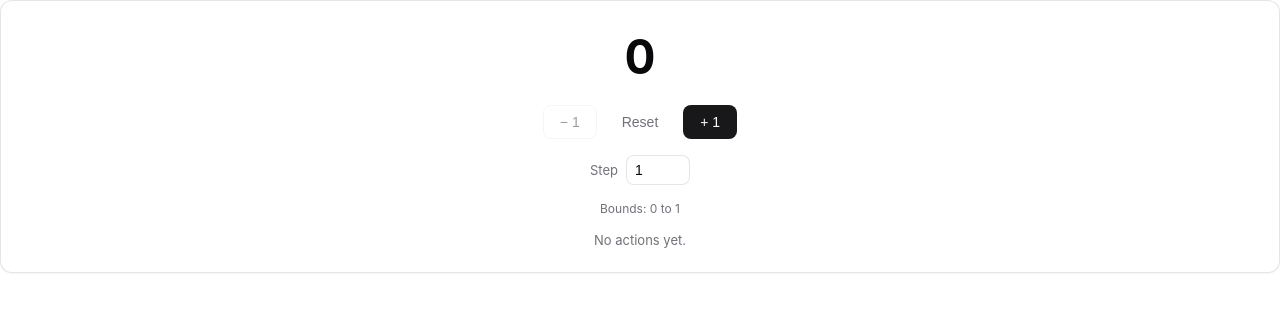
Test: respects the max bound and disables the increment button
Click the button "+ 1" at (710,122), box [683, 105, 737, 139]
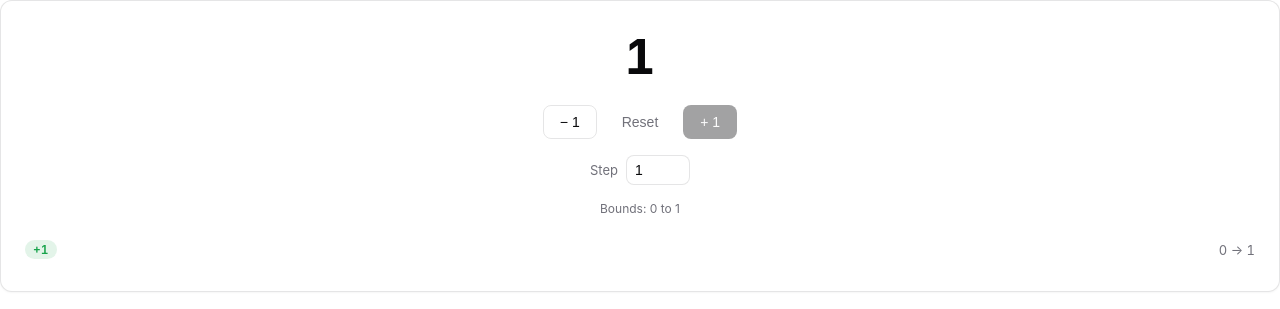
Expected: the text with test id "counter-value" reads "1", [624, 27, 656, 86]
Expected: the button "+ 1" is disabled, [683, 105, 737, 139]
